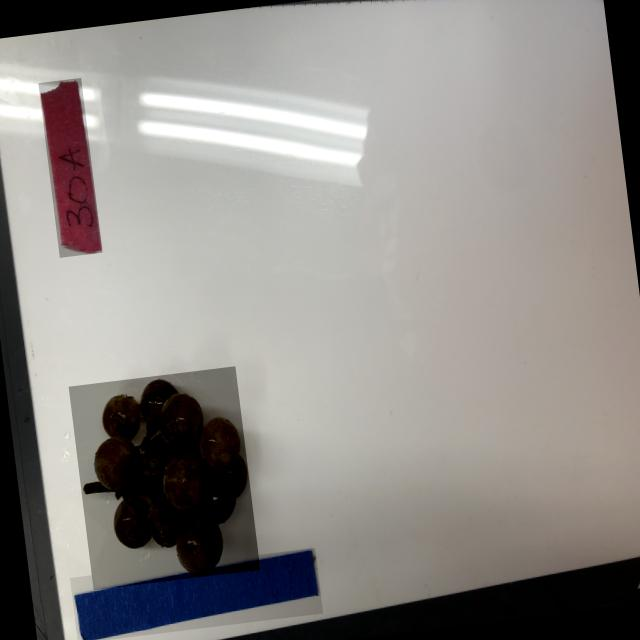grape_cluster: (68, 364, 260, 588)
index: (38, 76, 102, 256)
measure_label: (69, 546, 322, 640)
